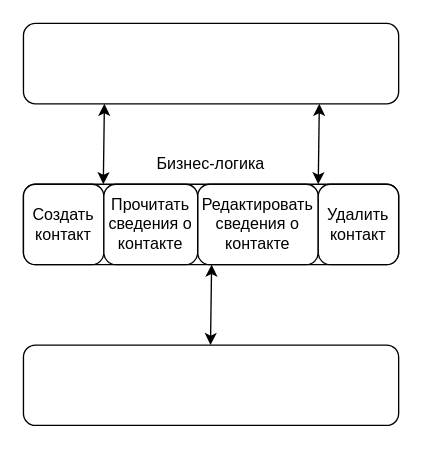
The diagram is 422 pixels wide and 449 high, and some of its shapes have lost their labels. Each missing label, with the box of its shape:
Интерфейс пользователя: (22, 22, 399, 104)
Хранилище данных (здесь хранятся контакты и сведения о них): (22, 344, 399, 425)
